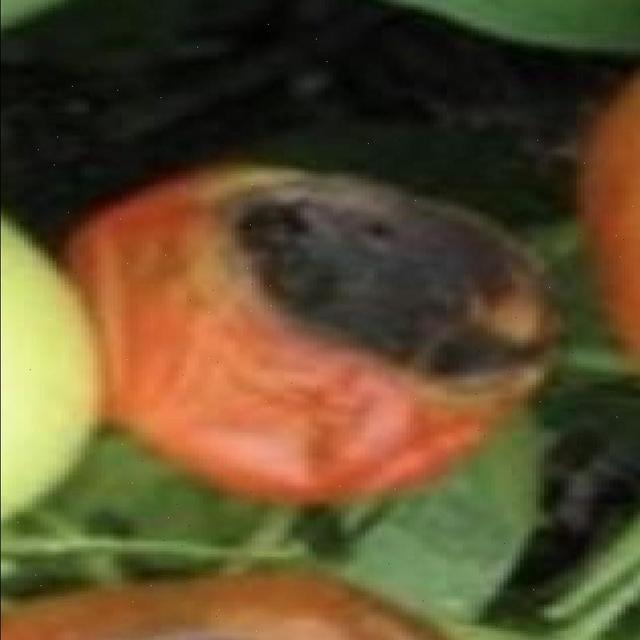Blossom End Rot Fruit: (151, 121, 384, 267)
